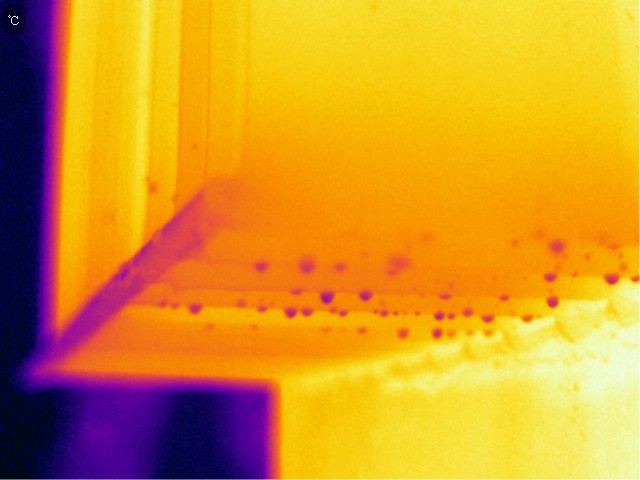Water: (431, 308, 478, 323), (542, 234, 571, 256), (367, 308, 424, 319), (353, 288, 387, 304), (295, 257, 321, 277), (154, 296, 182, 312), (429, 327, 455, 343), (185, 298, 208, 316), (600, 271, 626, 286), (480, 310, 499, 329), (515, 311, 539, 326), (317, 291, 341, 305), (254, 258, 276, 273), (544, 294, 562, 312), (394, 326, 415, 341), (281, 305, 299, 322), (536, 271, 561, 283), (332, 259, 353, 273), (438, 289, 456, 305), (255, 302, 271, 317), (233, 295, 248, 311), (299, 304, 313, 321), (496, 291, 514, 304), (288, 286, 304, 299)
